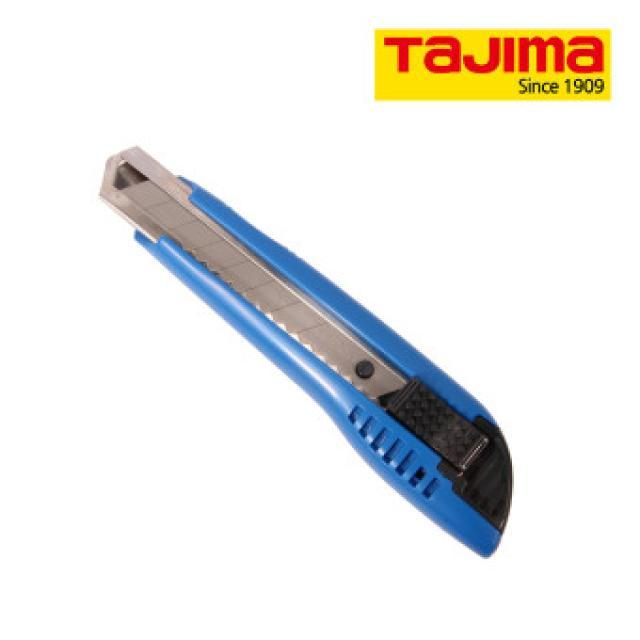cutter: (99, 134, 526, 560)
